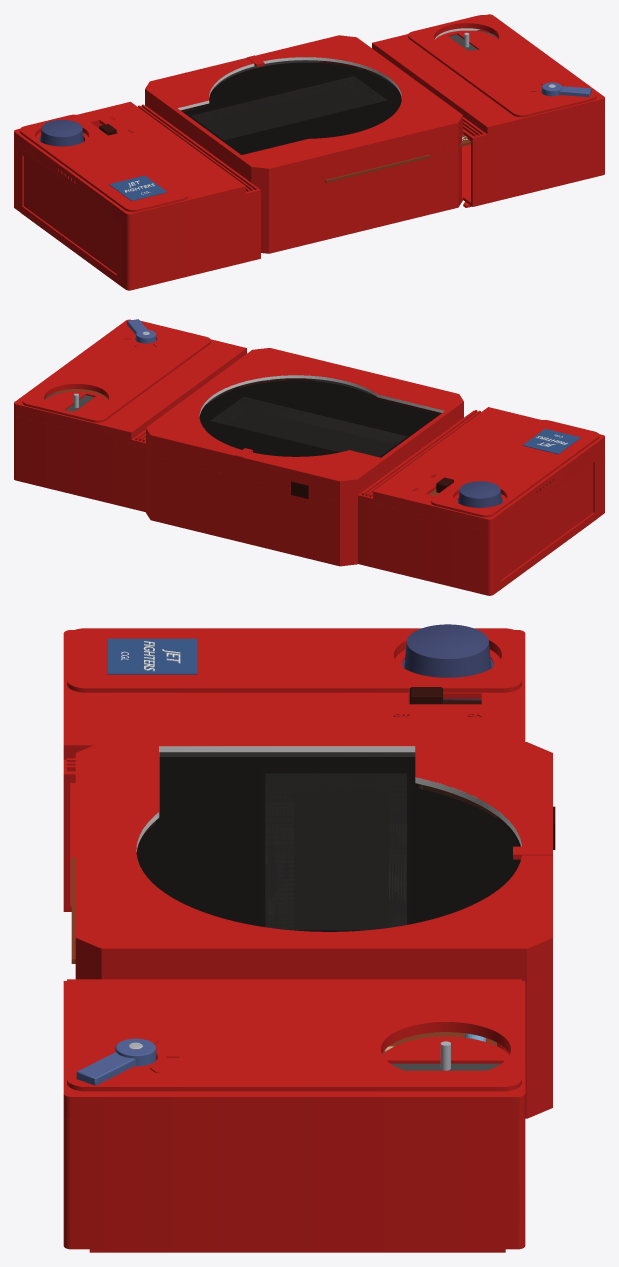
File: console.glb
3 views of the same model, one above another, from view 1: azimuth 30°, elevation 25°; view 2: azimuth 150°, elevation 25°; view 3: azimuth 270°, elevation 25° (orthographic). The views are drawn at different scales.
Parts seen in each view (by area): view 1: front_shell, back_shell, window, scope_mask, fire_cap, sticker, tube_shroud, skill_flag, pcb; view 2: front_shell, back_shell, window, scope_mask, fire_cap, sticker, tube_shroud, skill_flag; view 3: front_shell, back_shell, window, scope_mask, fire_cap, sticker, skill_flag, tube_shroud, pcb.
Boxes of the visible parts, <box> form: front_shell: <box>14,14,604,225</box>; back_shell: <box>14,29,604,290</box>; window: <box>181,60,401,154</box>; scope_mask: <box>184,63,400,154</box>; fire_cap: <box>40,119,83,146</box>; sticker: <box>109,175,167,200</box>; tube_shroud: <box>189,69,389,115</box>; skill_flag: <box>542,82,591,96</box>; pcb: <box>325,68,470,182</box>; front_shell: <box>14,319,604,531</box>; back_shell: <box>14,378,604,595</box>; window: <box>199,378,441,457</box>; scope_mask: <box>200,381,438,456</box>; fire_cap: <box>458,481,501,507</box>; sticker: <box>522,428,580,454</box>; tube_shroud: <box>208,387,409,435</box>; skill_flag: <box>127,319,156,343</box>; front_shell: <box>63,628,552,1120</box>; back_shell: <box>63,663,552,1252</box>; window: <box>136,752,520,931</box>; scope_mask: <box>137,757,520,931</box>; fire_cap: <box>404,624,491,677</box>; sticker: <box>107,638,197,674</box>; skill_flag: <box>76,1038,156,1085</box>; tube_shroud: <box>262,768,409,926</box>; pcb: <box>71,784,496,1054</box>.
Bounding box in the file's own units: 0.3415 × 0.0615 × 0.1519.
